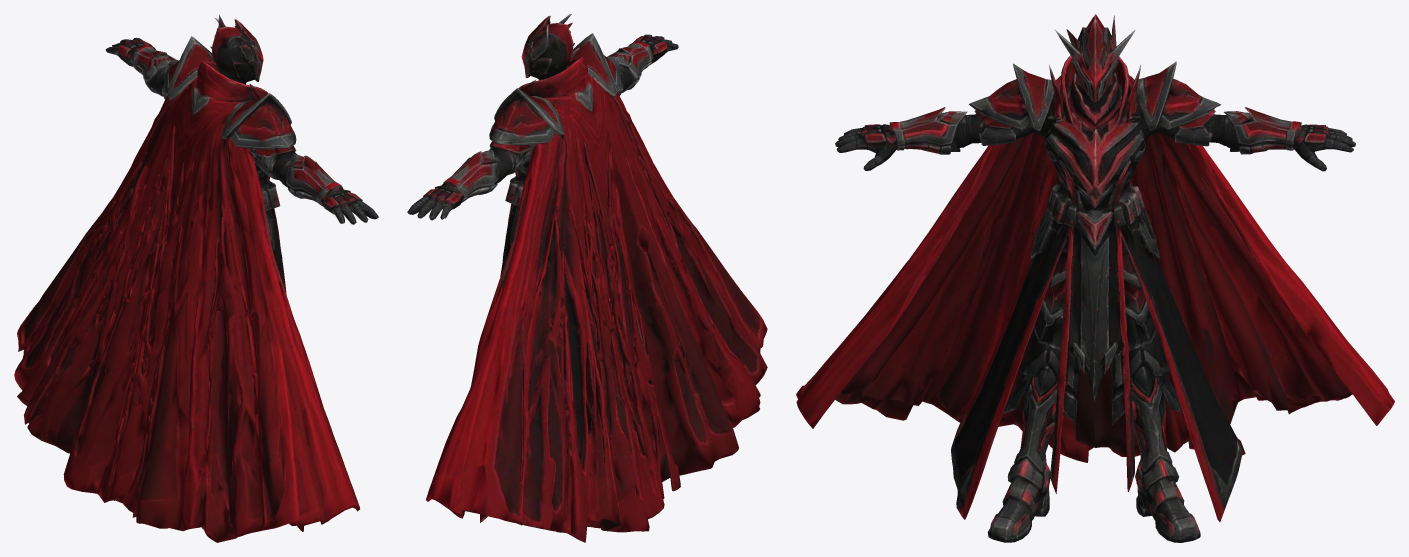
File: herald-commander.glb
The picture shows the model from 3 angles, left to right: view 1: azimuth 30°, elevation 25°; view 2: azimuth 150°, elevation 25°; view 3: azimuth 270°, elevation 25°; orthographic projection. The views are drawn at different scales.
Bounding box in the file's own units: 0.4331 × 1 × 1.08.
Materials: 1 (1 with a texture image).
